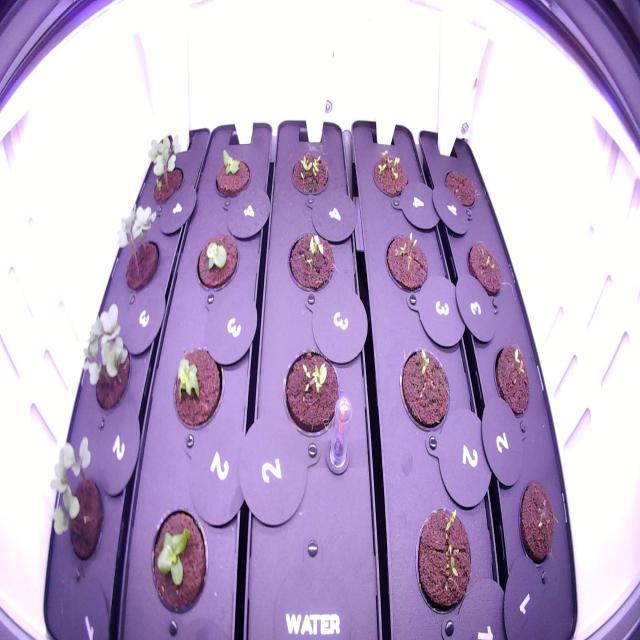germination: (40, 433, 111, 576), (409, 494, 474, 621), (277, 340, 348, 442), (77, 304, 137, 418), (396, 341, 457, 439), (111, 203, 163, 297), (283, 221, 339, 306), (490, 333, 537, 429), (380, 221, 432, 304), (142, 132, 188, 210), (461, 231, 507, 306), (285, 143, 334, 210), (366, 143, 412, 206)
pod: (509, 473, 562, 575), (437, 160, 482, 218)
young: (145, 501, 212, 627), (167, 339, 228, 441), (188, 226, 243, 301), (209, 142, 255, 208)
